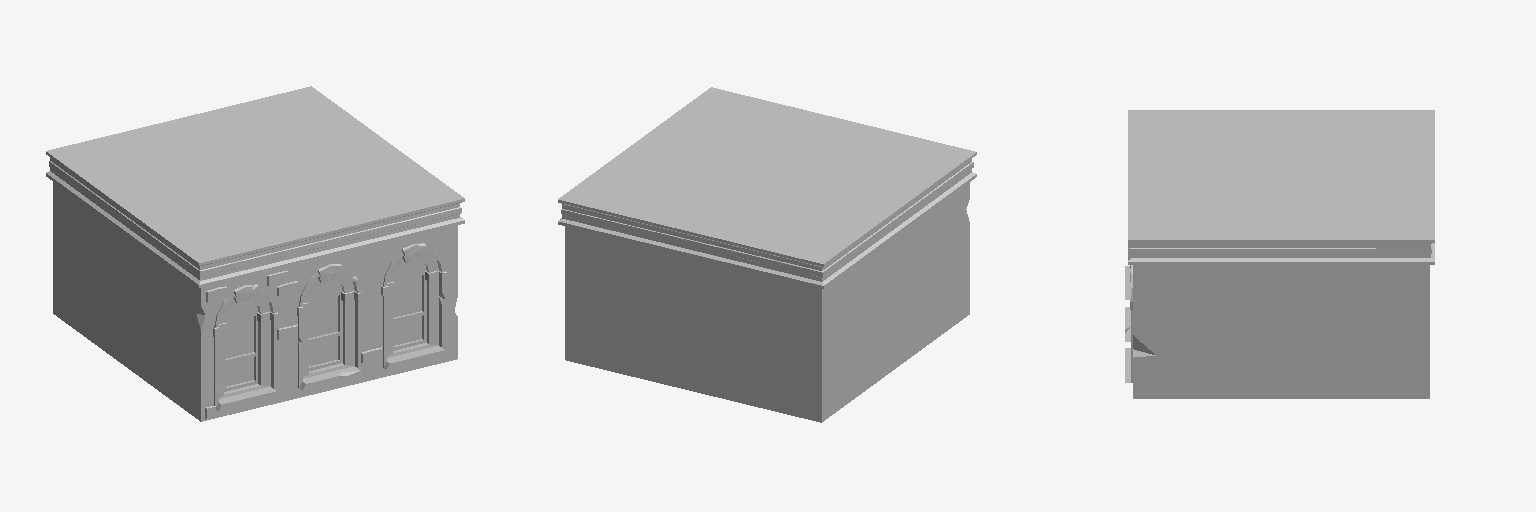
File: apartment_1.obj
3 renders of one model, left to right at view 1: azimuth 30°, elevation 25°; view 2: azimuth 150°, elevation 25°; view 3: azimuth 270°, elevation 25°, orthographic.
Parts seen in each view (by area): view 1: SM_Bld_Apartment_02_Mesh.009; view 2: SM_Bld_Apartment_02_Mesh.009; view 3: SM_Bld_Apartment_02_Mesh.009.
Part boxes in pixels (left/top/right/bottom): SM_Bld_Apartment_02_Mesh.009: left=46, top=86, right=464, bottom=421; SM_Bld_Apartment_02_Mesh.009: left=558, top=87, right=976, bottom=422; SM_Bld_Apartment_02_Mesh.009: left=1125, top=110, right=1434, bottom=398.
Bounding box in the file's own units: 5.17 × 3 × 5.21.